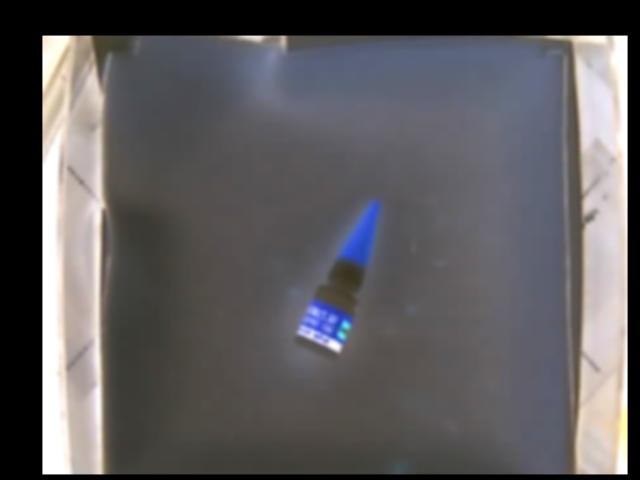Bottle: (292, 198, 385, 361)
